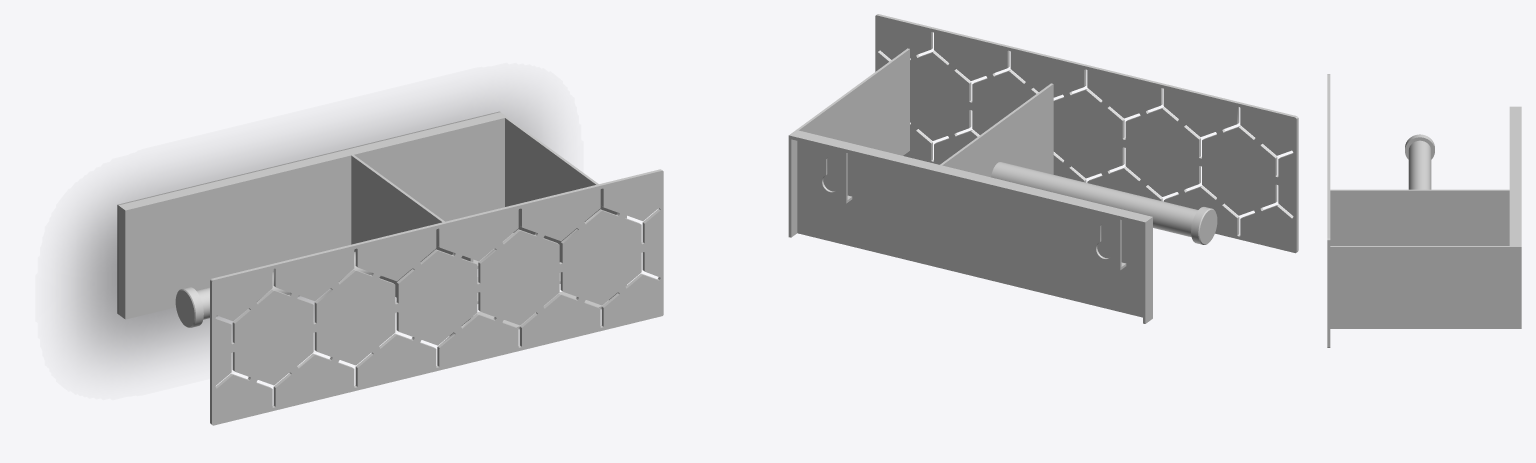
File: bee-duetto.8c6c1c6e0f.ar.glb
The picture shows the model from 3 angles, left to right: view 1: azimuth 30°, elevation 25°; view 2: azimuth 150°, elevation 25°; view 3: azimuth 270°, elevation 25°; orthographic projection. The views are drawn at different scales.
Visible parts, largest first — view 1: NAUO1, object 2; view 2: NAUO1; view 3: NAUO1.
Boxes of the visible parts, x1=… form: NAUO1: x1=117, y1=111, x2=663, y2=425; object 2: x1=70, y1=102, x2=546, y2=360; NAUO1: x1=788, y1=14, x2=1298, y2=323; NAUO1: x1=1327, y1=74, x2=1521, y2=347.
Size of the model in its own units: 0.34 by 0.16 by 0.129.
Materials: 2 (1 with a texture image).
